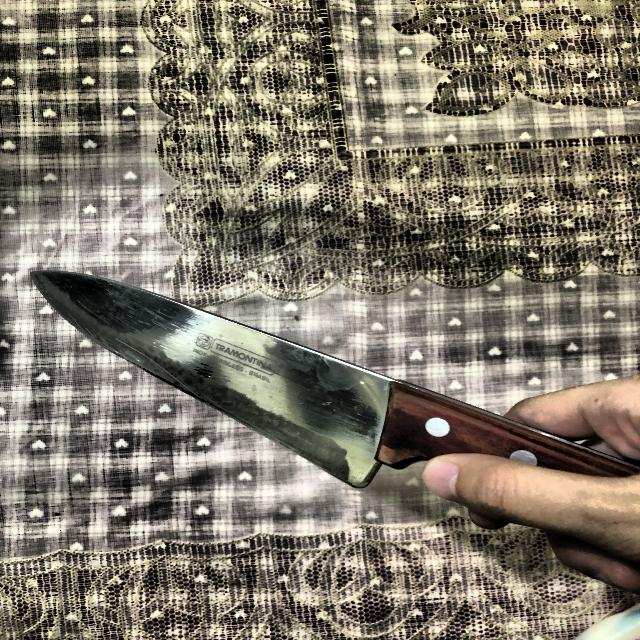knife: (29, 272, 636, 488)
